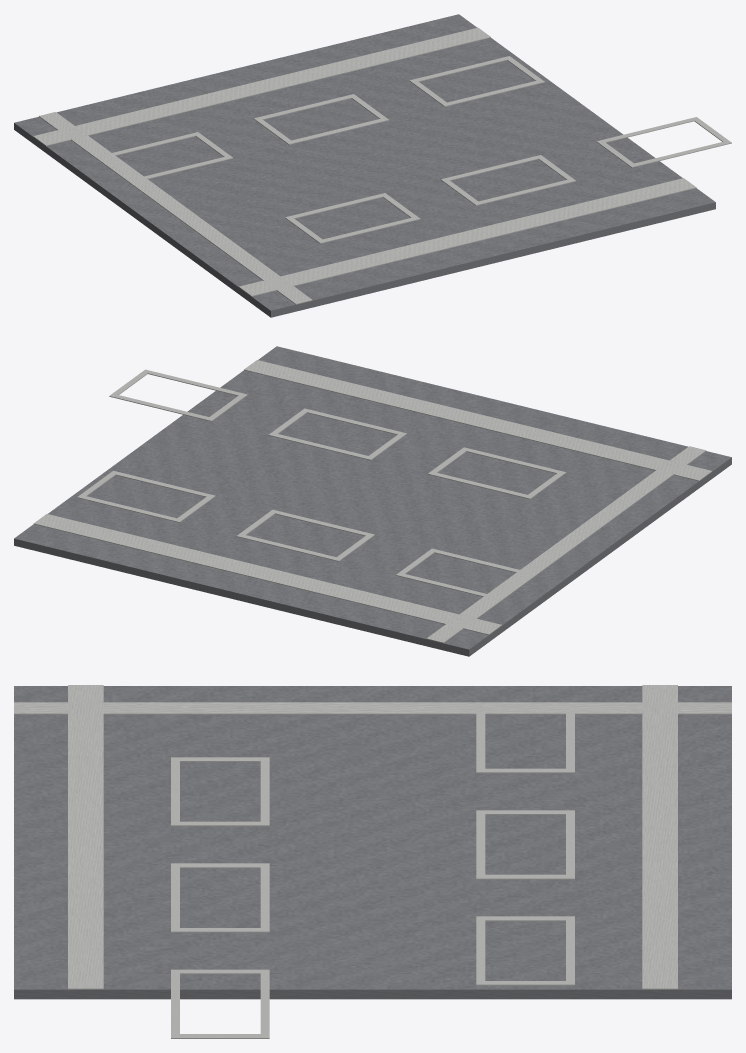
The model's file is go-kart-track-and-pit-lane-grid-box-marking-tile-cda522c6__34334.glb.
The picture shows the model from 3 angles, top to bottom: view 1: azimuth 30°, elevation 25°; view 2: azimuth 150°, elevation 25°; view 3: azimuth 270°, elevation 25°; orthographic projection. The views are drawn at different scales.
Parts seen in each view (by area): view 1: grid-box-marking-tile-tarmac, grid-box-marking-tile-concrete; view 2: grid-box-marking-tile-tarmac, grid-box-marking-tile-concrete; view 3: grid-box-marking-tile-tarmac, grid-box-marking-tile-concrete.
Boxes of the visible parts, x1,y1,x2,y2 form: grid-box-marking-tile-tarmac: (14, 14, 715, 317); grid-box-marking-tile-concrete: (33, 27, 731, 304); grid-box-marking-tile-tarmac: (14, 346, 731, 656); grid-box-marking-tile-concrete: (33, 360, 712, 643); grid-box-marking-tile-tarmac: (14, 686, 731, 999); grid-box-marking-tile-concrete: (14, 685, 731, 1038).
Size of the model in its own units: 9.3 by 0.1323 by 8.
Materials: 2 (2 with a texture image).
